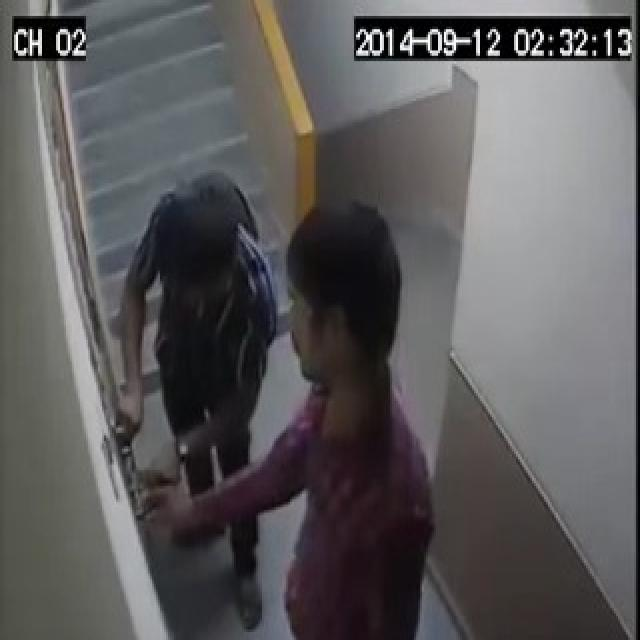thief: (111, 165, 265, 632), (274, 191, 430, 640)
